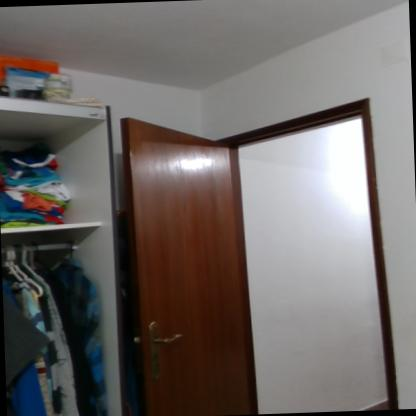open: (104, 96, 399, 416)
